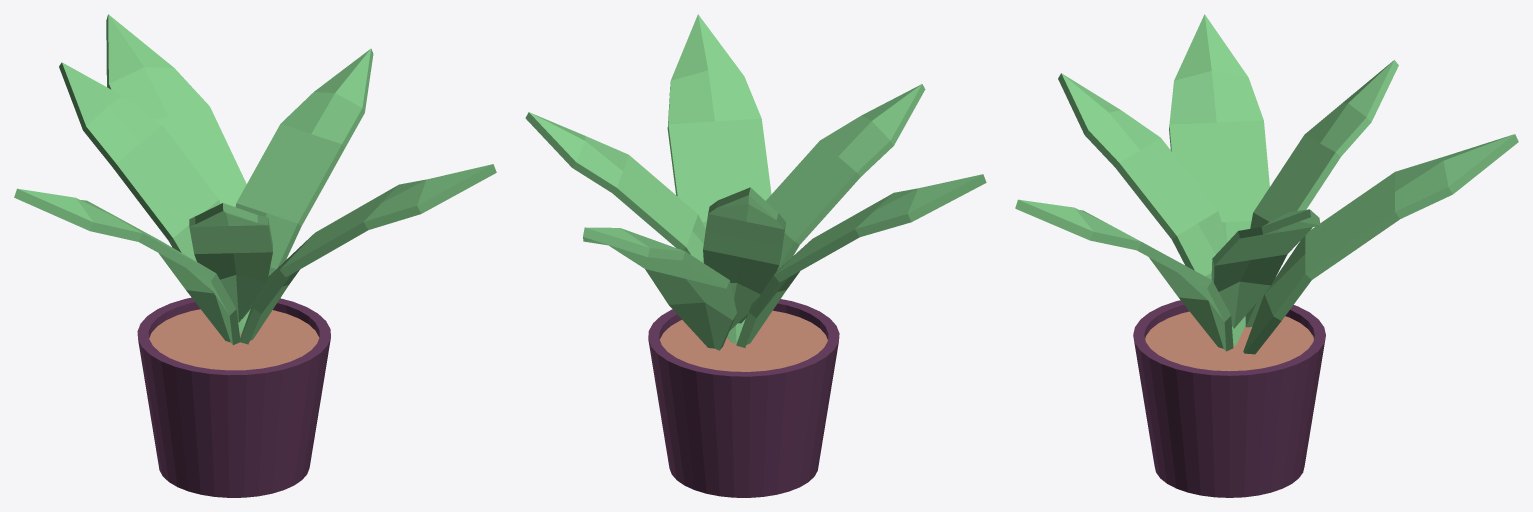
The model's file is kasvi_GJ22.fbx.
3 renders of one model, left to right at view 1: azimuth 30°, elevation 25°; view 2: azimuth 150°, elevation 25°; view 3: azimuth 270°, elevation 25°, orthographic.
Parts seen in each view (by area): view 1: Kasvi, Ruukku; view 2: Kasvi, Ruukku; view 3: Kasvi, Ruukku.
Boxes of the visible parts, bbox=[...] form: Kasvi: bbox=[14, 14, 496, 345]; Ruukku: bbox=[137, 297, 330, 497]; Kasvi: bbox=[525, 14, 986, 350]; Ruukku: bbox=[648, 299, 839, 497]; Kasvi: bbox=[1015, 14, 1518, 354]; Ruukku: bbox=[1133, 300, 1325, 497].
Bounding box in the file's own units: 49.16 × 41.52 × 52.21.
1 material, 1 textured.
